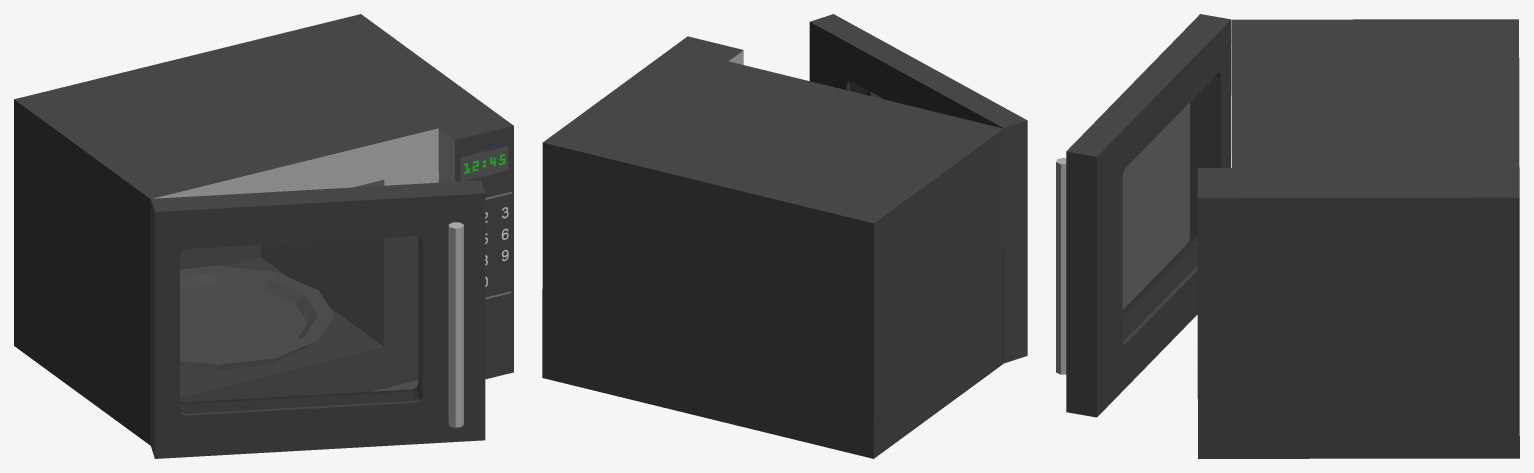
Rendered from microwave_a.fbx.
3 views of the same model, side by side, from view 1: azimuth 30°, elevation 25°; view 2: azimuth 150°, elevation 25°; view 3: azimuth 270°, elevation 25° (orthographic). The views are drawn at different scales.
Visible parts, largest first — view 1: microwave_a; view 2: microwave_a; view 3: microwave_a.
Part boxes in pixels (bbox=[...]): microwave_a: bbox=[14, 14, 513, 458]; microwave_a: bbox=[542, 14, 1027, 458]; microwave_a: bbox=[1056, 14, 1519, 458].
Size of the model in its own units: 18.21 by 12.03 by 19.35.
